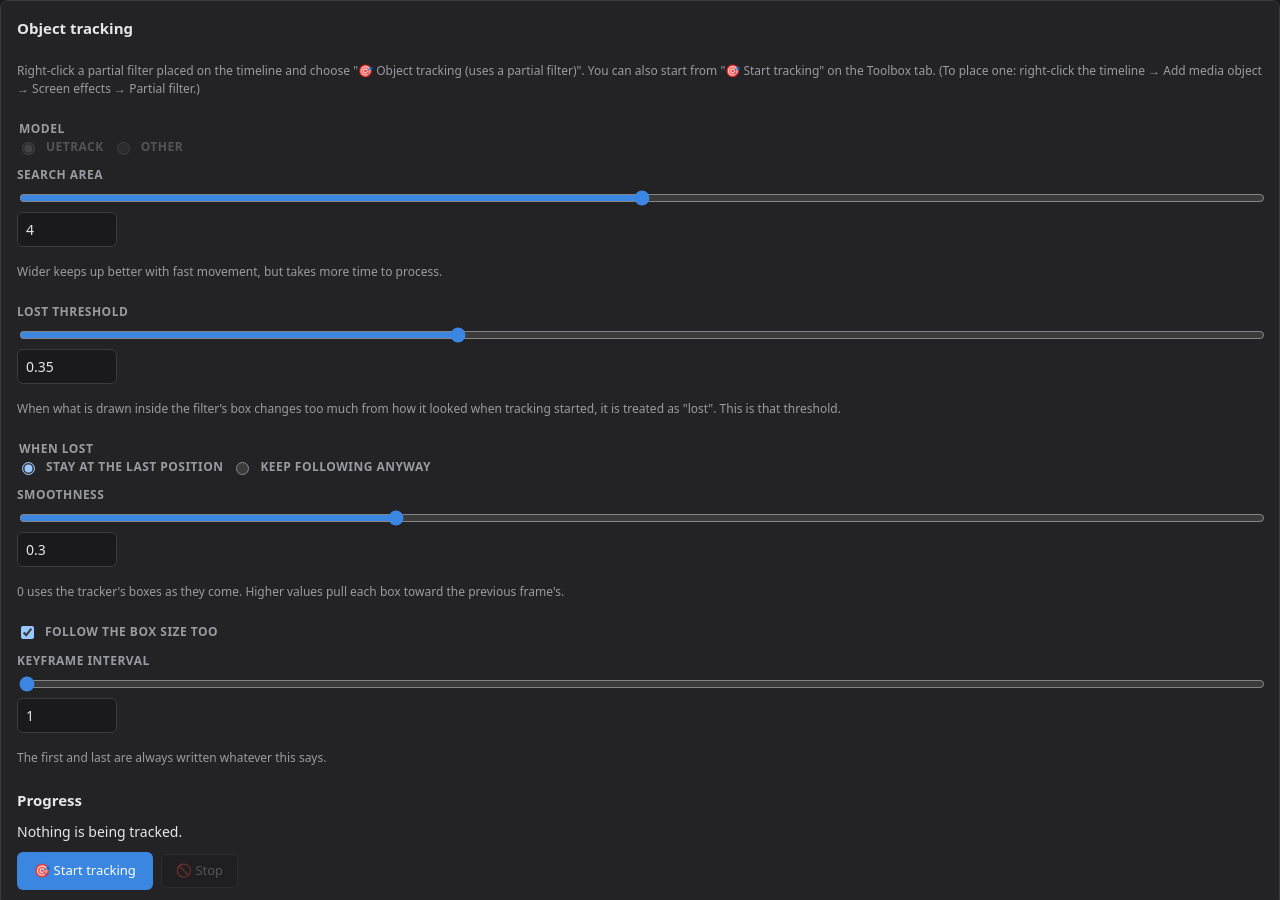
ObjectTrackingSection — the start button › words a refused getSelection by its code
This screenshot has width=1280, height=900.
Click the button "🎯 Start tracking" at coordinates (85, 871), box [17,852,153,890]
(page scrolled)
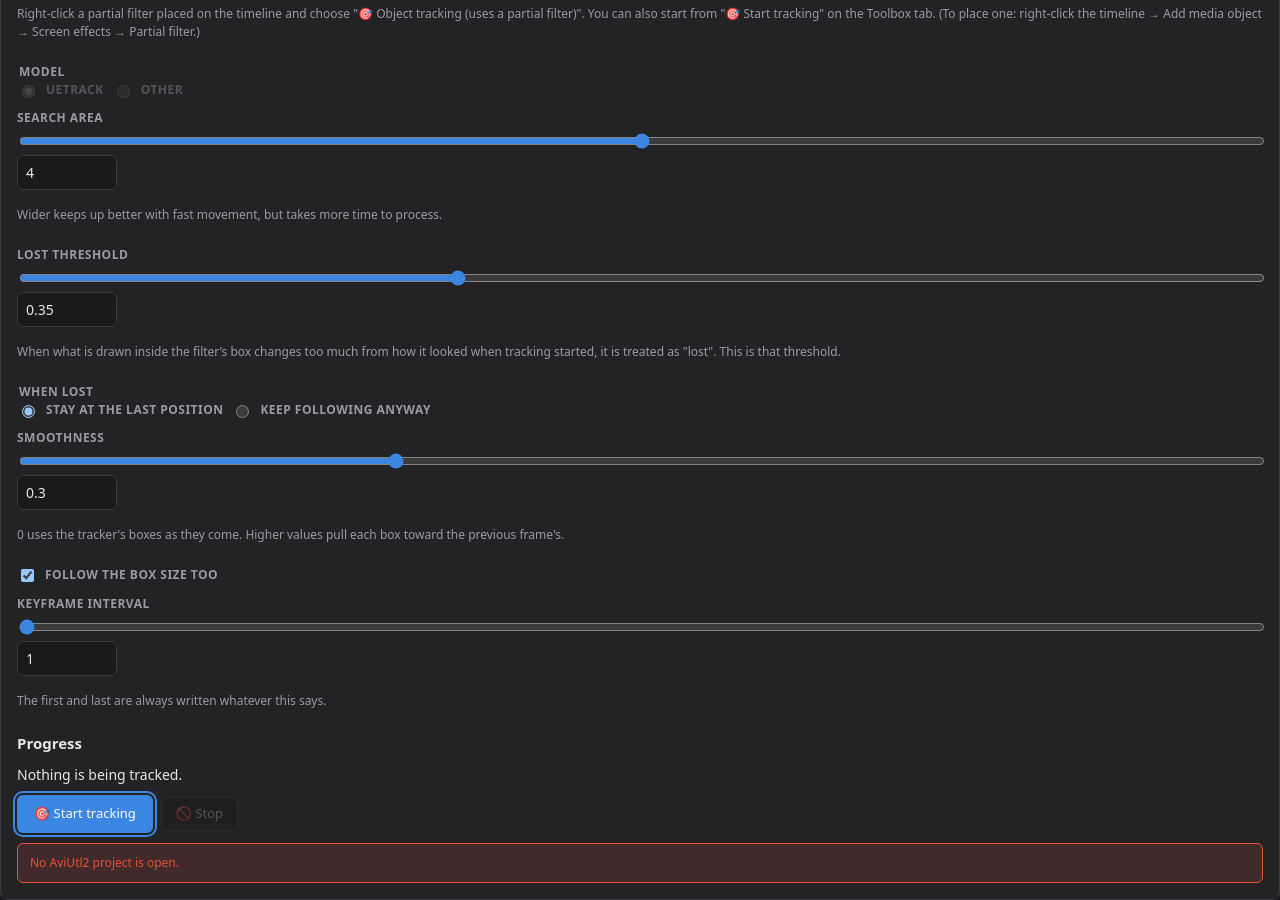
Now the text "No AviUtl2 project is open." is shown, box [30,854,179,870]
